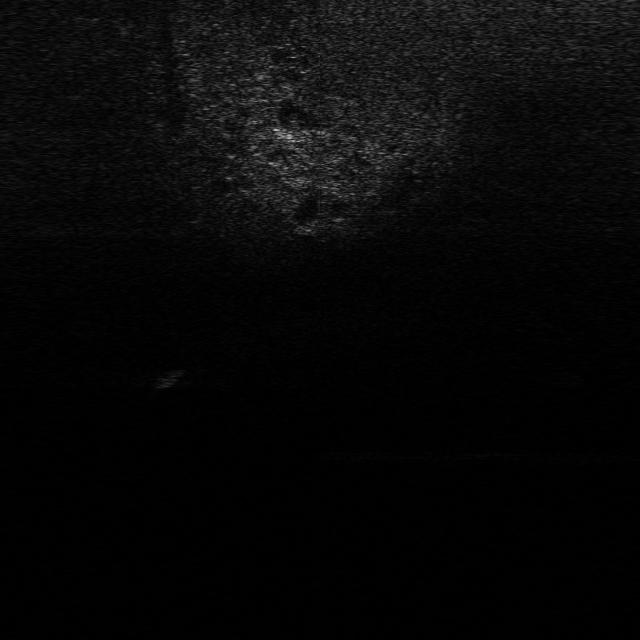cylinder: (153, 360, 187, 395)
